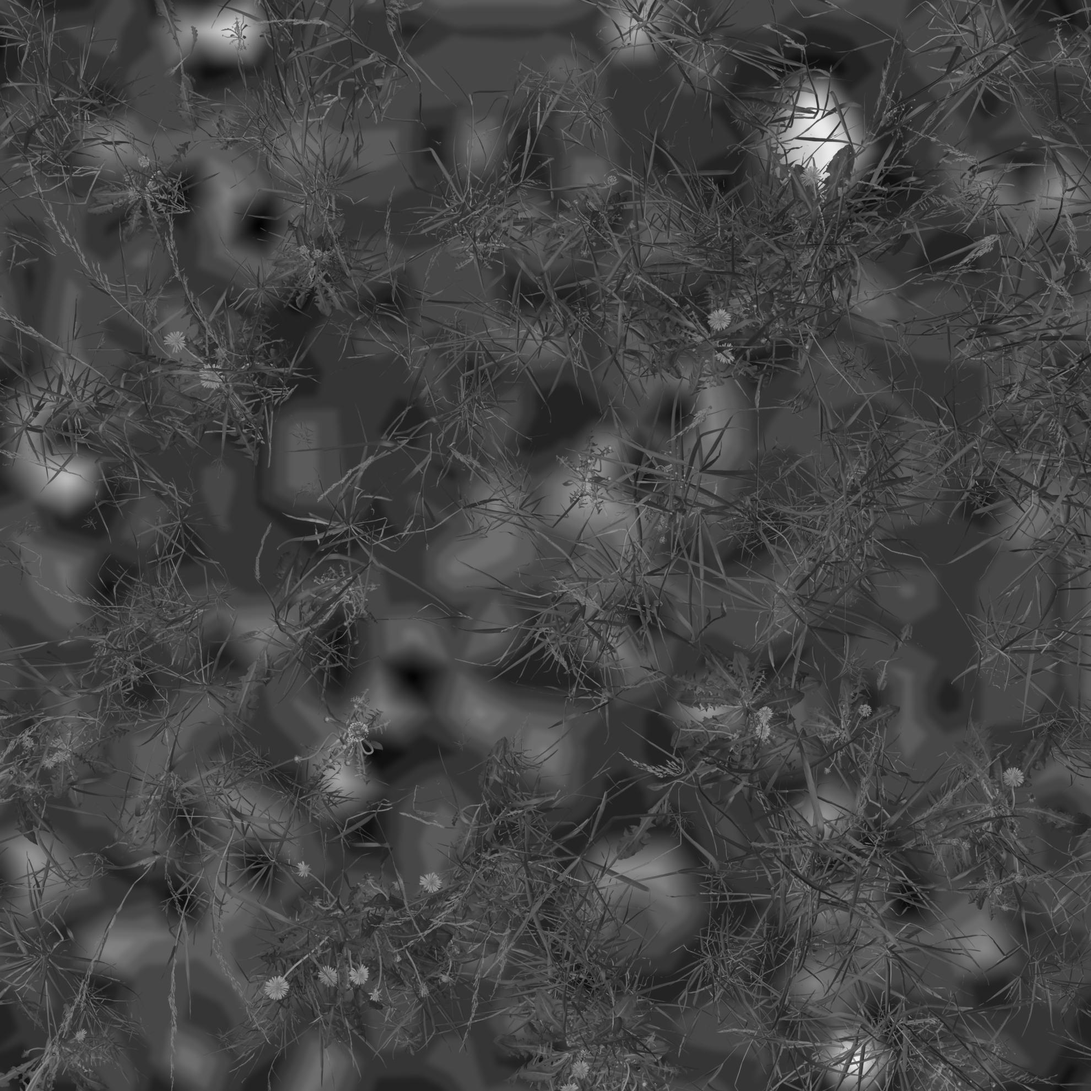landmine: (514, 793, 736, 1007), (701, 29, 919, 240), (221, 360, 428, 575)
